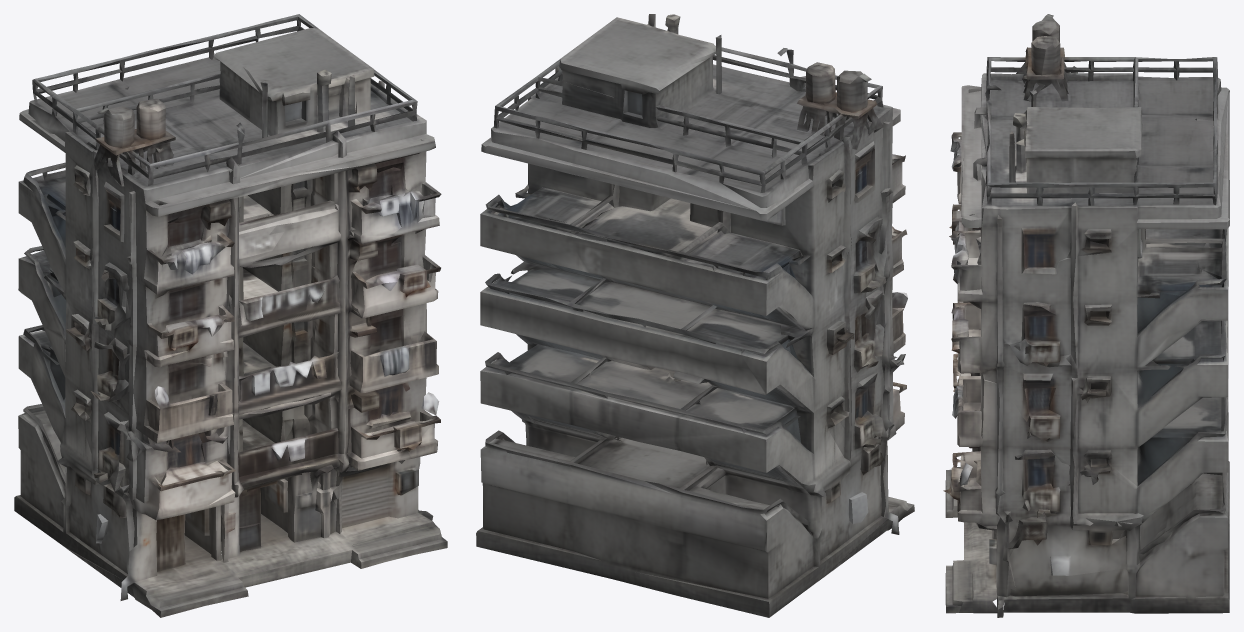
Rendered from glb.glb.
The picture shows the model from 3 angles, left to right: view 1: azimuth 30°, elevation 25°; view 2: azimuth 150°, elevation 25°; view 3: azimuth 270°, elevation 25°; orthographic projection. The views are drawn at different scales.
Visible parts, largest first — view 1: world; view 2: world; view 3: world.
Boxes of the visible parts, box(x1,y1,x2,y2) form: world: box(14, 14, 447, 617); world: box(476, 14, 914, 617); world: box(943, 14, 1229, 617).
Bounding box in the file's own units: 0.4608 × 0.65 × 0.3664.
1 material, 1 textured.
